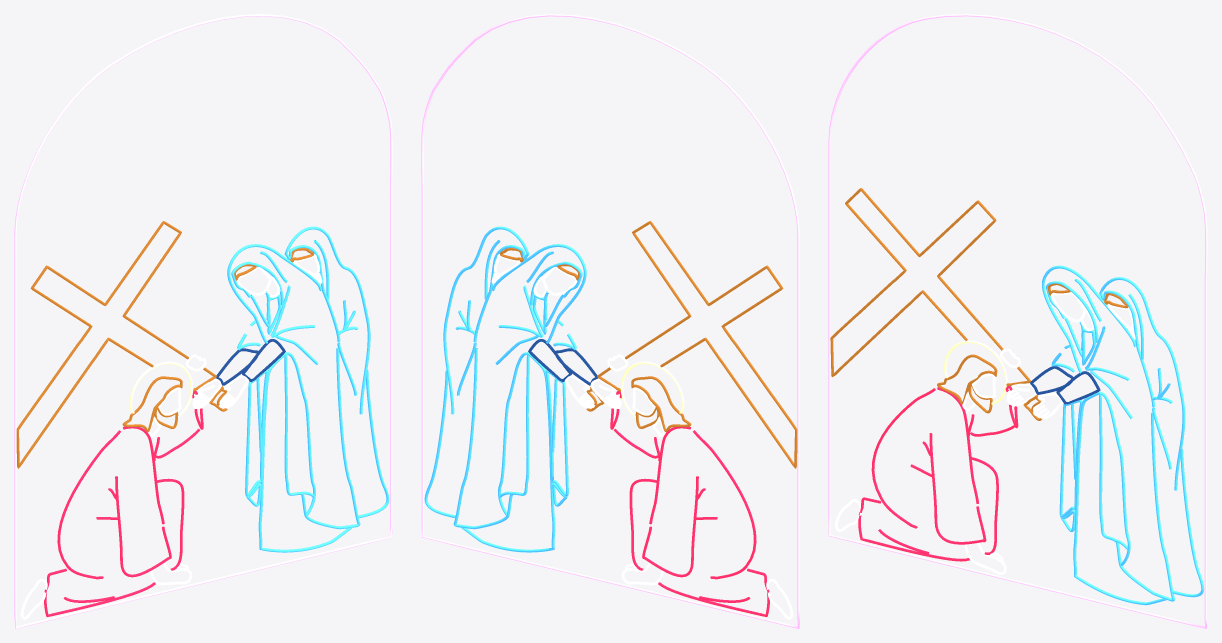
File: 4-Encuentro Maria.fbx
The picture shows the model from 3 angles, left to right: view 1: azimuth 30°, elevation 25°; view 2: azimuth 150°, elevation 25°; view 3: azimuth 330°, elevation 25°; orthographic projection.
Visible parts, largest first — view 1: 4-Encuentro Maria; view 2: 4-Encuentro Maria; view 3: 4-Encuentro Maria.
Part boxes in pixels (x1,y1,x2,y2): 4-Encuentro Maria: (14, 14, 392, 628); 4-Encuentro Maria: (421, 14, 799, 628); 4-Encuentro Maria: (828, 14, 1207, 628).
Size of the model in its own units: 353 by 501 by 3.68.
